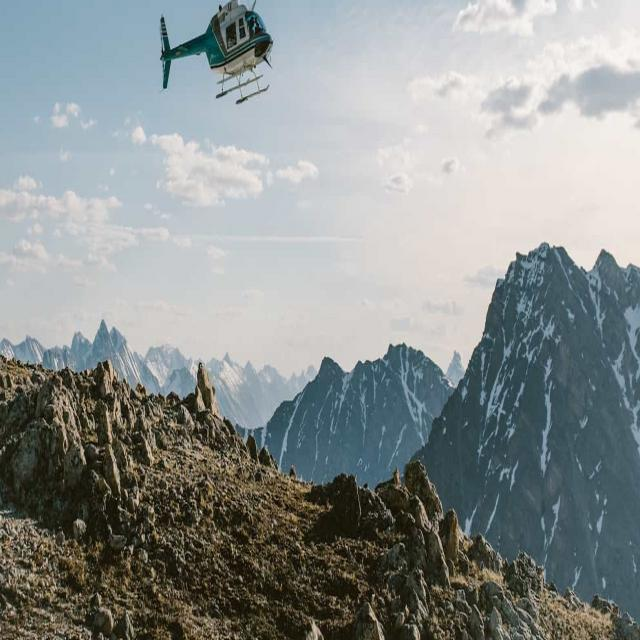helicopter: (158, 1, 279, 115)
